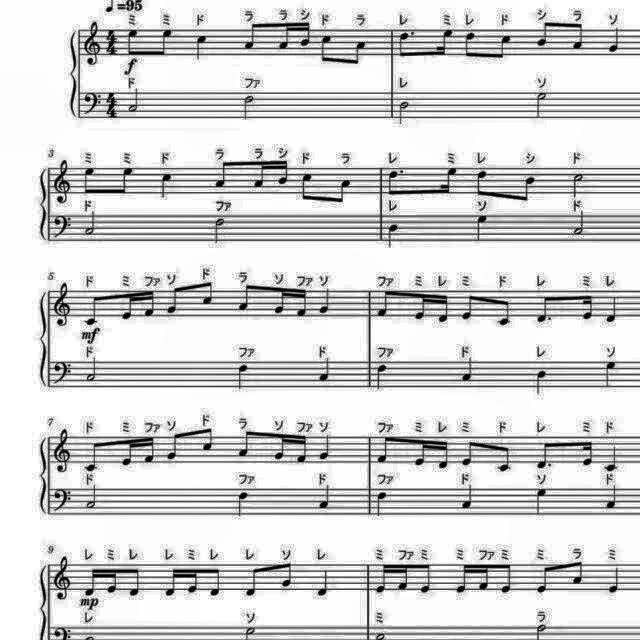Bass-clef: (52, 357, 76, 388), (52, 212, 76, 240), (51, 486, 75, 514), (81, 90, 103, 118)
Eighth-note: (516, 171, 540, 205), (82, 439, 104, 476), (84, 290, 105, 326), (114, 164, 136, 198), (211, 159, 233, 193), (240, 563, 260, 599), (333, 176, 355, 208), (532, 440, 554, 472), (296, 170, 316, 204), (494, 442, 514, 476), (494, 296, 514, 330), (473, 166, 493, 198), (233, 428, 253, 460), (348, 40, 368, 72), (162, 430, 182, 462), (374, 434, 394, 466), (458, 438, 478, 470), (232, 282, 252, 314), (398, 26, 418, 58), (534, 294, 554, 326), (532, 18, 552, 50), (374, 287, 394, 319), (317, 32, 335, 66), (163, 565, 181, 599), (165, 284, 183, 318), (494, 29, 514, 59), (242, 22, 262, 52), (208, 566, 225, 600), (461, 290, 479, 322), (452, 560, 468, 596), (128, 564, 144, 600), (158, 26, 176, 58), (569, 21, 587, 53), (534, 562, 552, 594), (385, 166, 403, 198), (82, 164, 100, 196), (199, 424, 217, 454), (277, 559, 295, 589), (199, 278, 217, 308), (462, 29, 478, 61), (184, 566, 200, 598), (499, 562, 515, 594), (125, 24, 141, 56), (568, 558, 586, 586), (420, 562, 434, 594)
Half-note: (238, 93, 258, 123), (81, 208, 99, 238), (210, 217, 228, 247), (531, 90, 549, 120), (569, 208, 587, 238), (568, 170, 586, 198), (86, 484, 102, 512), (127, 87, 143, 115), (85, 355, 101, 383), (394, 98, 410, 126)
Quarter-note: (158, 168, 178, 200), (460, 354, 480, 384), (460, 483, 480, 512), (314, 568, 332, 600), (317, 284, 335, 316), (603, 294, 621, 326), (473, 214, 492, 244), (532, 487, 550, 518), (602, 443, 620, 473), (316, 433, 334, 463), (601, 359, 619, 389), (234, 362, 252, 392), (384, 220, 402, 250), (316, 482, 334, 511), (606, 564, 622, 596), (374, 361, 391, 391), (374, 488, 391, 518), (532, 368, 550, 396), (603, 483, 621, 511), (316, 356, 334, 384), (235, 488, 253, 516), (192, 33, 208, 63), (606, 26, 622, 54)
Sixteenth-note: (434, 168, 458, 200), (435, 25, 457, 59), (371, 560, 389, 596), (140, 432, 158, 464), (252, 158, 270, 190), (411, 436, 429, 468), (83, 565, 101, 597), (579, 438, 597, 470), (435, 435, 451, 469), (435, 290, 451, 324), (276, 20, 294, 50), (397, 560, 413, 592), (412, 290, 428, 322), (118, 438, 134, 470), (293, 434, 309, 466), (104, 566, 120, 598), (118, 292, 134, 324), (294, 288, 310, 320), (298, 19, 314, 49), (477, 561, 493, 591), (272, 433, 288, 463), (272, 287, 288, 317), (142, 288, 158, 318), (580, 291, 596, 321), (276, 162, 292, 190)
Treble-clef: (52, 425, 76, 475), (52, 553, 76, 603), (52, 160, 76, 208), (52, 280, 76, 328), (83, 20, 105, 68)
